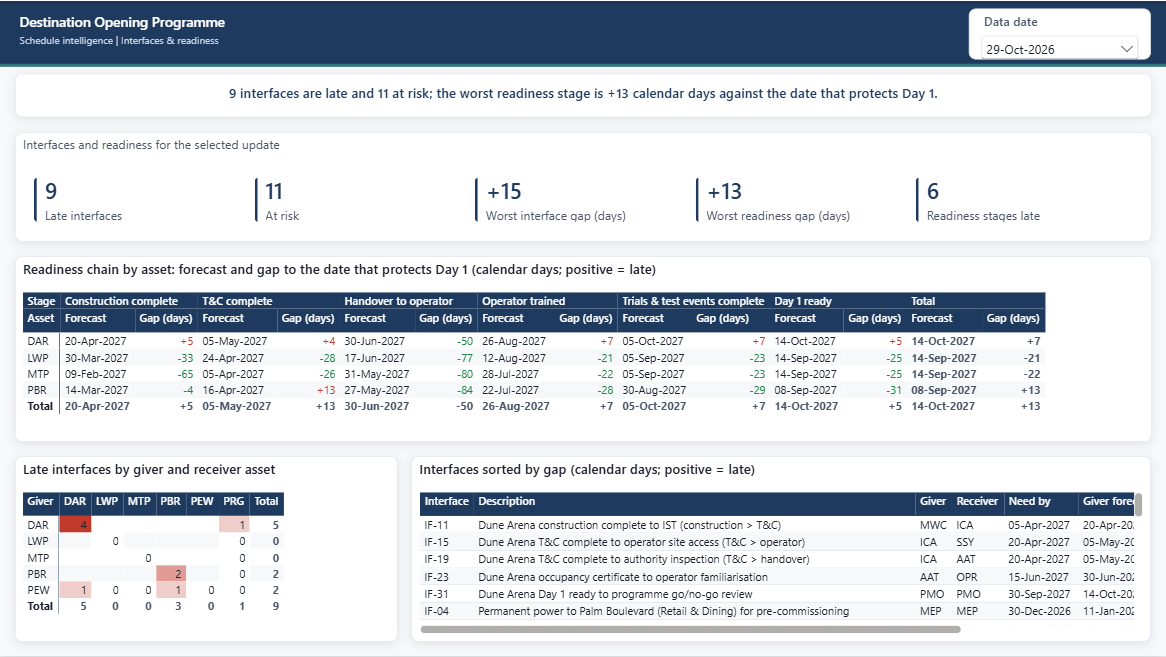

What the dashboard file says about the page in this screenshot:
{"tool":"powerbi","page":{"name":"Interfaces & readiness","canvas":[1280,720],"ordinal":3},"visuals":[{"type":"textbox","box":[16,8,1032,56],"z":1000},{"type":"slicer","fields":{"Values":["dim_snapshot.data_date"]},"box":[1064,8,200,56],"z":2000},{"type":"card","fields":{"Values":["_Measures.Title - Interfaces and readiness"]},"box":[16,80,1248,48],"z":3000},{"type":"cardVisual","title":"Interfaces and readiness for the selected update","fields":{"Data":["_Measures.Interfaces late","_Measures.Interfaces at risk","_Measures.Interface gap (max)","_Measures.Readiness gap","_Measures.Readiness stages late"]},"box":[16,144,1248,120],"z":4000},{"type":"pivotTable","title":"Readiness chain by asset: forecast and gap to the date that protects Day 1 (calendar days; positive = late)","fields":{"Rows":["fact_readiness.asset_code"],"Columns":["fact_readiness.stage"],"Values":["Max(fact_readiness.forecast)","_Measures.Readiness gap"]},"box":[16,280,1248,204],"z":5000},{"type":"pivotTable","title":"Late interfaces by giver and receiver asset","fields":{"Rows":["fact_interface.giver_asset"],"Columns":["fact_interface.receiver_asset"],"Values":["_Measures.Interfaces late"]},"box":[16,500,420,204],"z":6000},{"type":"tableEx","title":"Interfaces sorted by gap (calendar days; positive = late)","fields":{"Values":["fact_interface.interface_id","fact_interface.description","fact_interface.giver_owner","fact_interface.receiver_owner","fact_interface.need_by","fact_interface.giver_forecast","fact_interface.gap_days","fact_interface.status","dim_activity.activity_id"]},"box":[452,500,812,204],"z":7000}]}

Visuals, with their boxes in screenshot pixels (x1, y1, x2, y2), scaled from the page's 1280x720 canvas onto the 1166x657 screenshot:
textbox: [left=15, top=7, right=955, bottom=58]
slicer - dim_snapshot.data_date: [left=969, top=7, right=1151, bottom=58]
card - _Measures.Title - Interfaces and readiness: [left=15, top=73, right=1151, bottom=117]
"Interfaces and readiness for the selected update" cardVisual: [left=15, top=131, right=1151, bottom=241]
"Readiness chain by asset: forecast and gap to the date that protects Day 1 (calendar days; positive = late)" pivotTable: [left=15, top=256, right=1151, bottom=442]
"Late interfaces by giver and receiver asset" pivotTable: [left=15, top=456, right=397, bottom=642]
"Interfaces sorted by gap (calendar days; positive = late)" tableEx: [left=412, top=456, right=1151, bottom=642]
